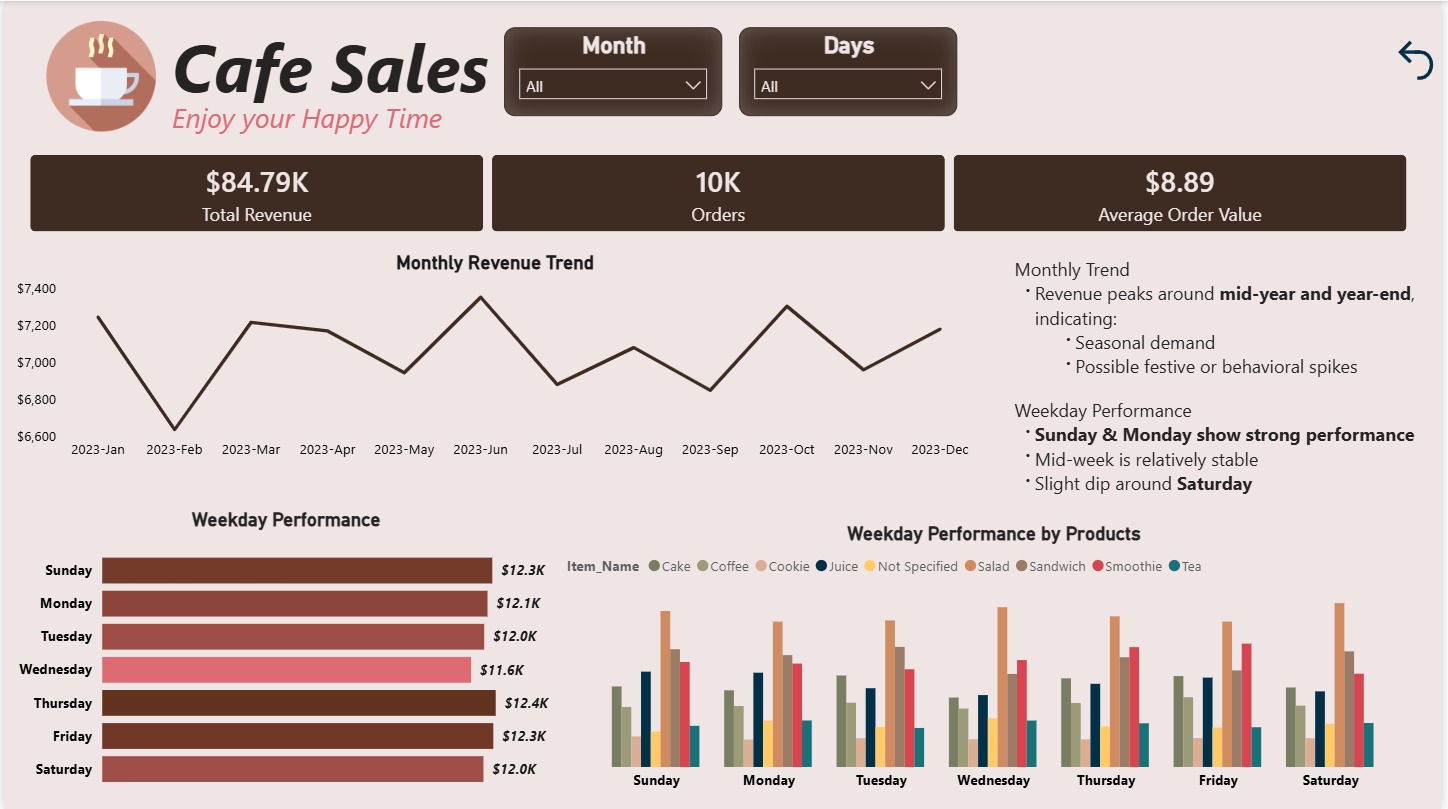

This screenshot's page, from the dashboard's own definition file:
{"tool":"powerbi","page":{"name":"TIME INTELLIGENCE","canvas":[1280,720],"ordinal":3},"visuals":[{"type":"image","box":[28.9,17.3,115.4,98.1],"z":0},{"type":"textbox","box":[144.3,13,321.7,102.4],"z":1000},{"type":"textbox","box":[144.3,82.2,341.9,66.4],"z":2000},{"type":"cardVisual","fields":{"Data":["Measures Table.Total Revenue","Measures Table.Total Orders","Measures Table.AOV"]},"box":[7.2,119.7,1259.5,102.4],"z":3000},{"type":"slicer","title":"Month","fields":{"Values":["cafe dim_date_view.Month Name"]},"box":[445.8,23.1,194.8,79.4],"z":4000},{"type":"slicer","title":"Days","fields":{"Values":["cafe dim_date_view.Day Name"]},"box":[654.5,23.1,194.8,79.4],"z":5000},{"type":"barChart","title":"Weekday Performance","fields":{"Category":["cafe dim_date_view.Day Name"],"Y":["Measures Table.Total Revenue"]},"box":[7.2,451.6,489.1,261.1],"z":6000},{"type":"lineChart","title":"Monthly Revenue Trend  ","fields":{"Y":["Measures Table.Total Revenue"],"Category":["cafe dim_date_view.YearMonth"]},"box":[7.2,222.2,861.3,194.8],"z":7000},{"type":"clusteredColumnChart","title":"Weekday Performance by Products","fields":{"Category":["cafe dim_date_view.Day Name"],"Y":["Measures Table.Total Revenue"],"Series":["cafe dim_item_view.Item_Name"]},"box":[496.3,464.6,770.4,248.2],"z":8000},{"type":"group","id":"g1","title":"Group 2","box":[894.5,222.2,373.7,242.4],"z":9000},{"type":"actionButton","box":[1234.2,22.9,45.8,59.1],"z":12000},{"type":"textbox","box":[894.5,222.2,373.7,242.4],"z":12000,"group":"g1"}]}

Visuals, with their boxes in screenshot pixels (x1, y1, x2, y2), scaled from the page's 1280x720 canvas onto the 1448x809 screenshot:
image: rect(33, 19, 163, 130)
textbox: rect(163, 15, 527, 130)
textbox: rect(163, 92, 550, 167)
cardVisual - Measures Table.Total Revenue x Measures Table.Total Orders: rect(8, 134, 1433, 250)
"Month" slicer: rect(504, 26, 725, 115)
"Days" slicer: rect(740, 26, 961, 115)
"Weekday Performance" barChart: rect(8, 507, 561, 801)
"Monthly Revenue Trend  " lineChart: rect(8, 250, 982, 469)
"Weekday Performance by Products" clusteredColumnChart: rect(561, 522, 1433, 801)
"Group 2" group: rect(1012, 250, 1435, 522)
actionButton: rect(1396, 26, 1447, 92)
textbox: rect(1012, 250, 1435, 522)
